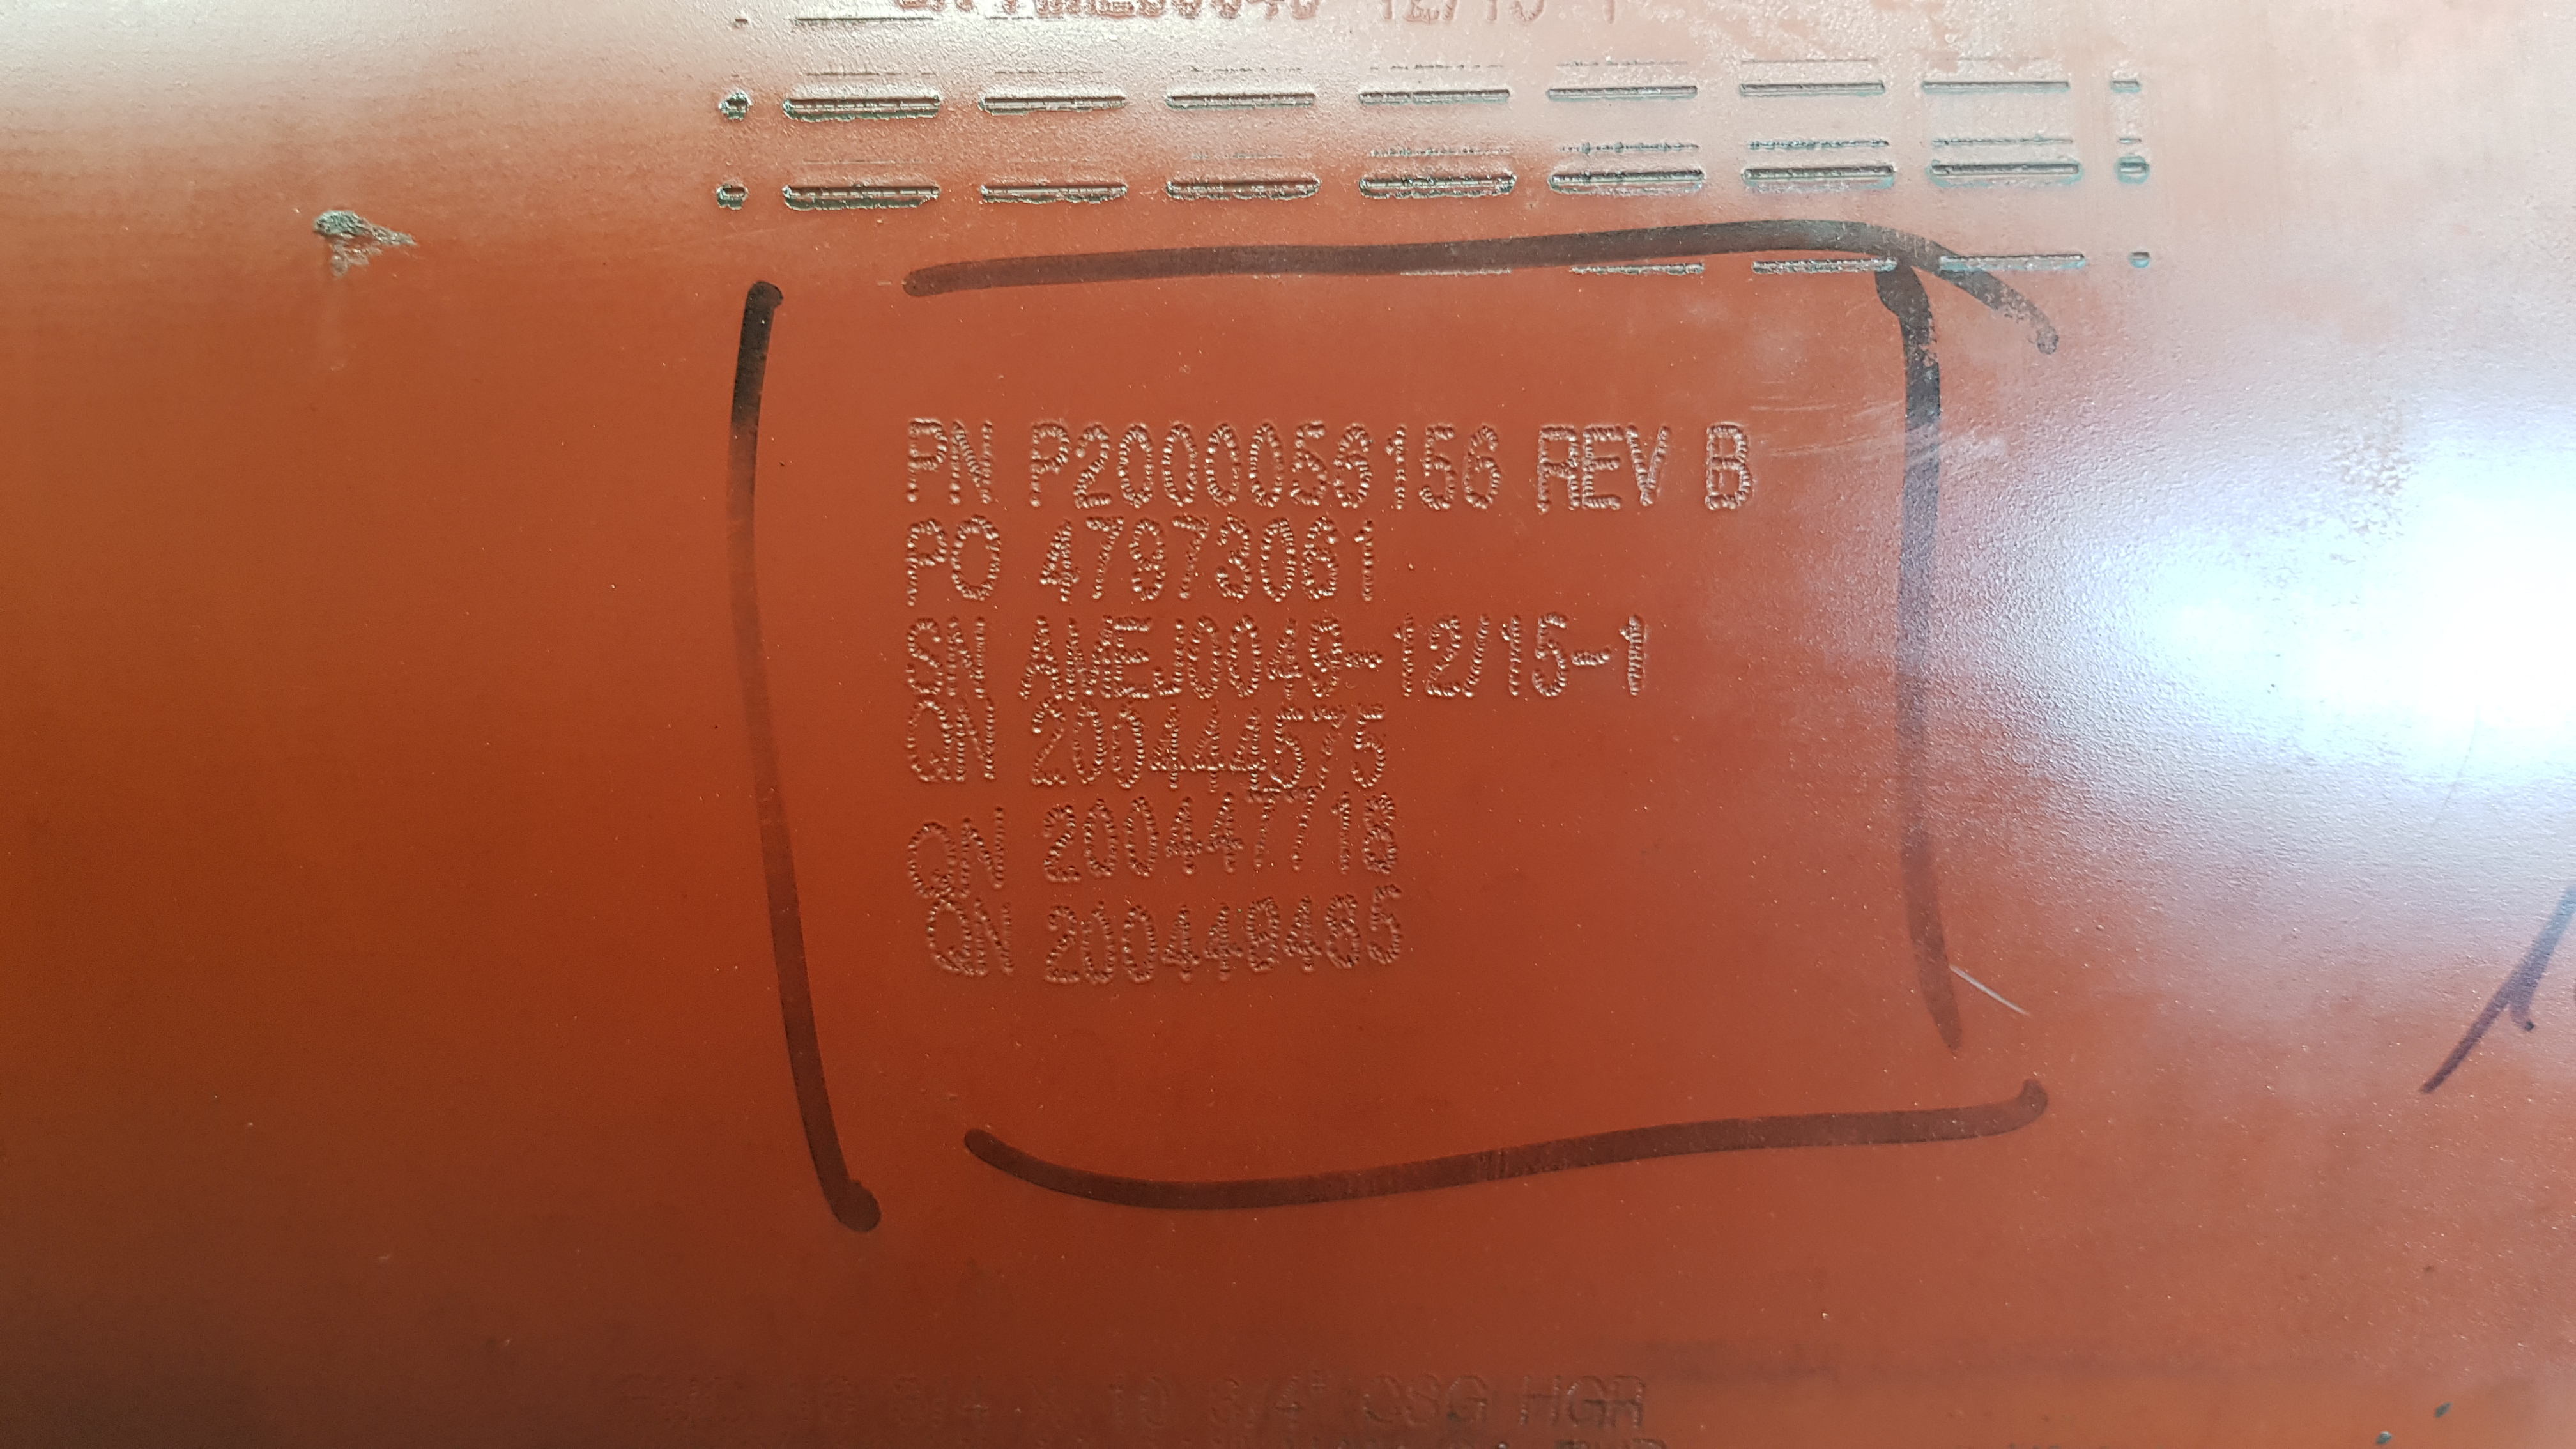character: (1697, 418, 1759, 515), (948, 513, 1007, 609), (943, 416, 1000, 510), (955, 803, 1010, 897), (954, 697, 1007, 793), (1624, 419, 1675, 515), (897, 517, 947, 614), (902, 695, 955, 786), (1329, 418, 1380, 510), (904, 819, 961, 901), (1060, 614, 1113, 701), (1244, 414, 1292, 510), (1532, 419, 1580, 515), (1067, 418, 1116, 510), (941, 612, 991, 704), (1024, 418, 1070, 515), (899, 414, 948, 504), (1113, 419, 1162, 510), (1115, 796, 1164, 886), (927, 899, 977, 987), (1580, 421, 1626, 515), (1461, 423, 1509, 513), (1040, 901, 1088, 991), (970, 904, 1026, 980), (1417, 421, 1461, 517), (1108, 614, 1155, 702), (1035, 518, 1086, 600), (1081, 513, 1127, 603), (1529, 607, 1573, 701), (1116, 897, 1161, 989), (1279, 892, 1325, 980), (1157, 904, 1205, 989), (1200, 416, 1244, 506), (1288, 419, 1332, 510), (1200, 902, 1244, 991), (1300, 515, 1343, 607), (1359, 885, 1405, 970), (1200, 798, 1247, 879), (1235, 897, 1283, 978), (1127, 517, 1171, 603), (1030, 699, 1072, 789), (1079, 796, 1122, 886), (1426, 612, 1467, 706), (1228, 702, 1269, 796), (1113, 699, 1150, 798), (1040, 801, 1083, 888), (901, 614, 945, 697), (1215, 517, 1258, 602), (1019, 614, 1062, 699), (1161, 421, 1201, 510), (1284, 794, 1329, 876), (1614, 609, 1651, 704), (1362, 791, 1405, 874), (1148, 706, 1189, 793), (1306, 704, 1346, 791), (1169, 513, 1208, 603), (1081, 908, 1120, 998), (1380, 419, 1417, 513), (1258, 517, 1297, 605), (1067, 701, 1106, 789), (1166, 793, 1207, 876), (1320, 892, 1361, 975), (1185, 617, 1224, 704), (1267, 704, 1306, 791), (1192, 706, 1230, 796), (1352, 704, 1391, 789), (1307, 614, 1346, 697), (1228, 612, 1265, 699), (1272, 617, 1307, 704), (1329, 796, 1362, 883), (1247, 798, 1283, 876), (1157, 614, 1189, 699), (1350, 518, 1380, 607), (1391, 614, 1421, 702), (1468, 614, 1497, 699), (1499, 609, 1525, 699)
